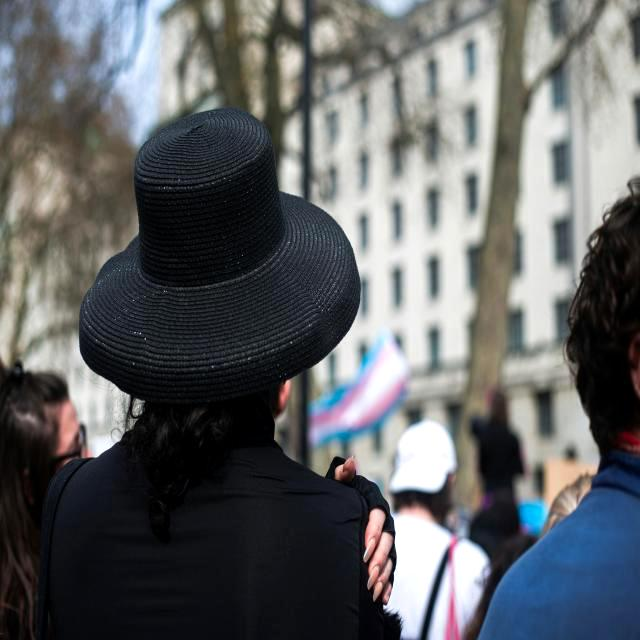no_hard_hat: (80, 109, 360, 404), (389, 418, 457, 494)
no_head_wear: (566, 182, 640, 451), (0, 362, 68, 640)
person: (37, 108, 400, 640), (478, 180, 640, 638), (0, 359, 84, 640), (386, 418, 490, 640)
